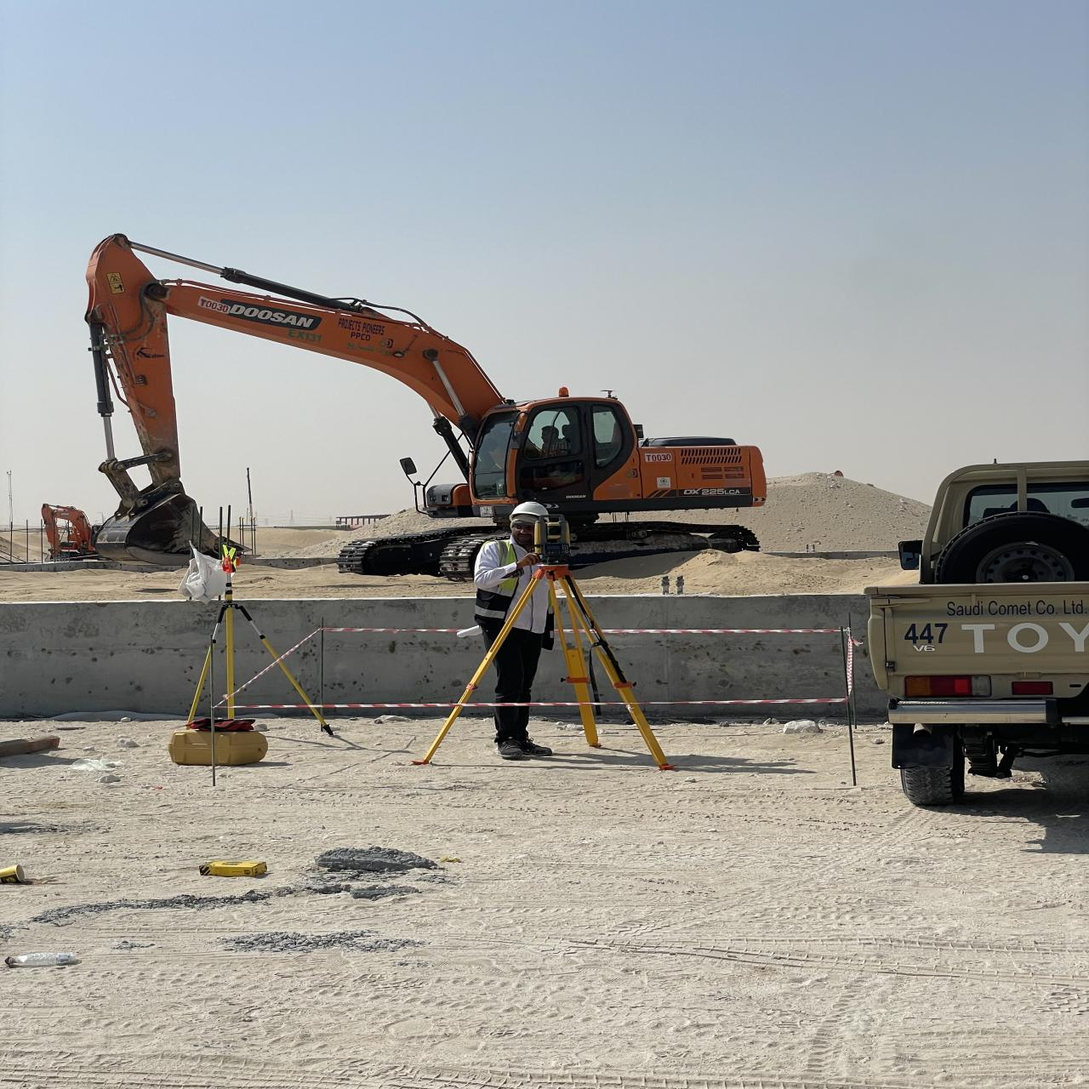Person: (449, 487, 587, 770)
Safety_Vest: (473, 539, 560, 641)
